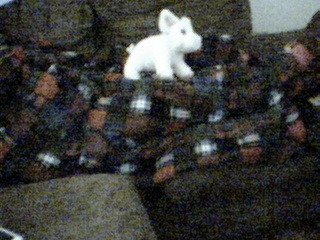piggy: (124, 7, 203, 84)
